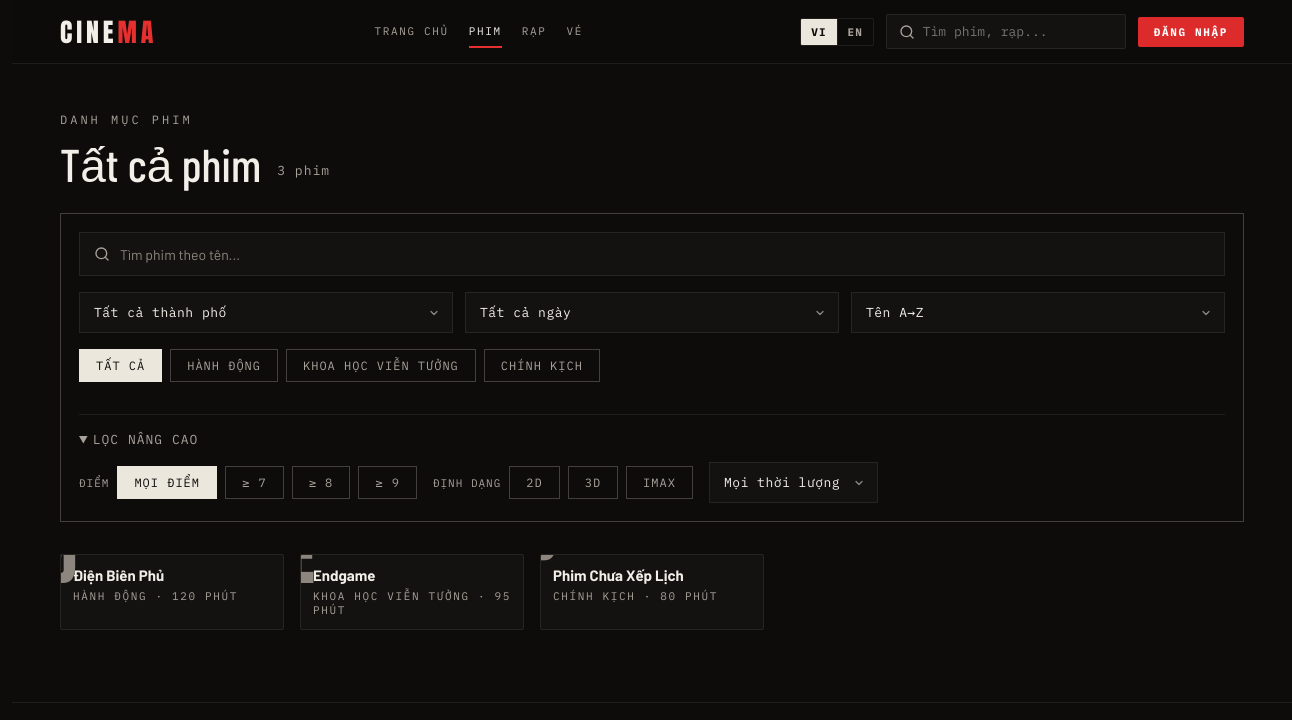
Scenario: Movies › chip định dạng lọc theo loại phòng của suất chiếu
The width and height of the screenshot is (1292, 720).
Expected: the text "Danh mục phim" is shown, [60,112,193,127]
Expected: the text "Điện Biên Phủ" is shown, [73,566,164,584]
Click the button "IMAX".
click(660, 483)  # box [626,466,693,499]
(page scrolled)
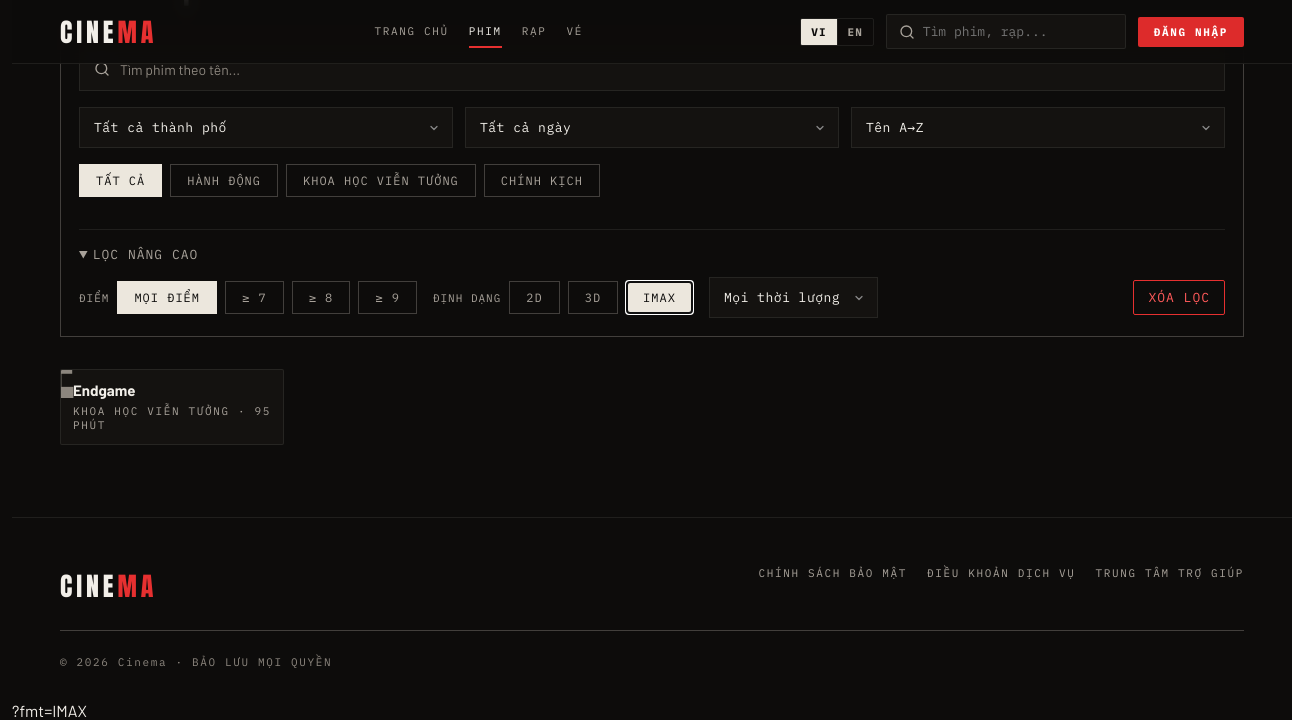
Expected: the text with test id "qs" shows "fmt=IMAX", [12,701,87,719]
